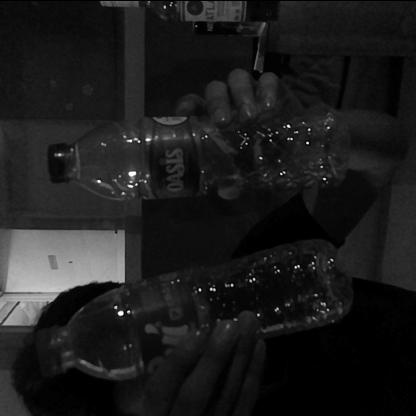plastic_bottles: (37, 237, 350, 375), (46, 105, 354, 205)
